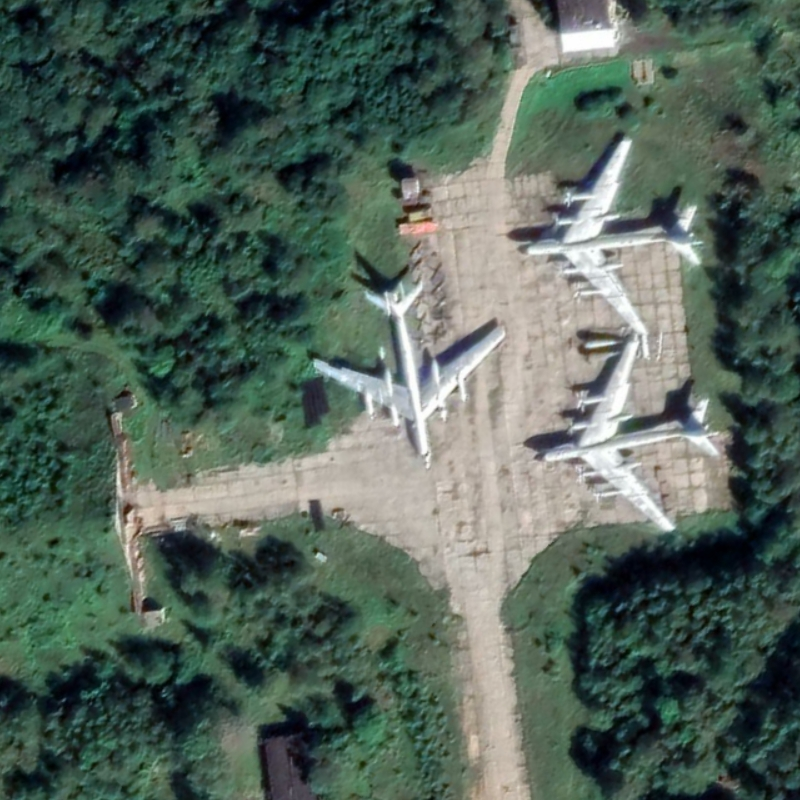A17: (532, 328, 725, 536), (517, 132, 709, 339), (310, 278, 510, 468)
